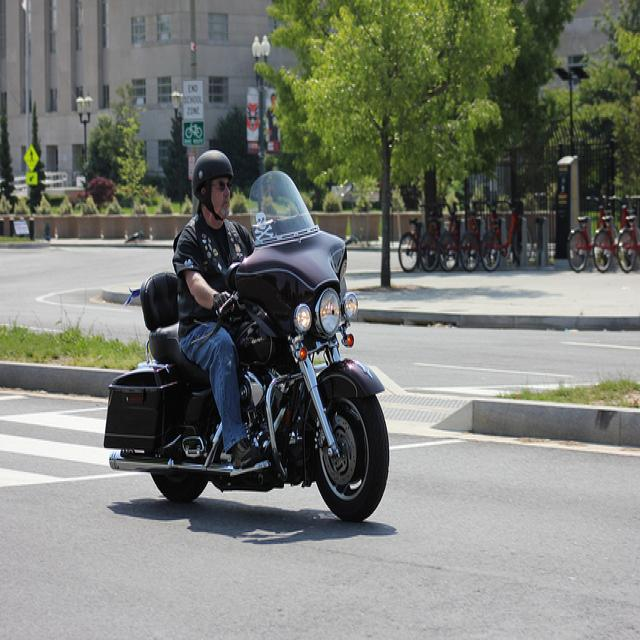motor: (102, 171, 390, 523)
